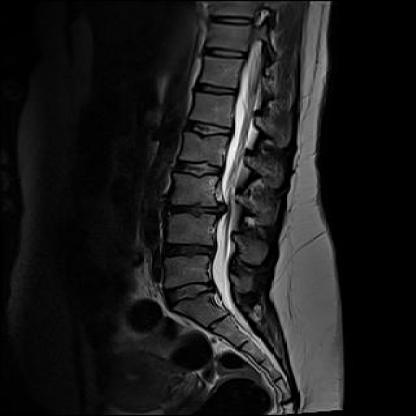Disc Bulgerotation: (160, 277, 223, 314), (161, 197, 236, 226), (157, 240, 219, 266)
